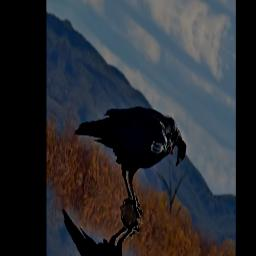Crow: (68, 54, 191, 243)
